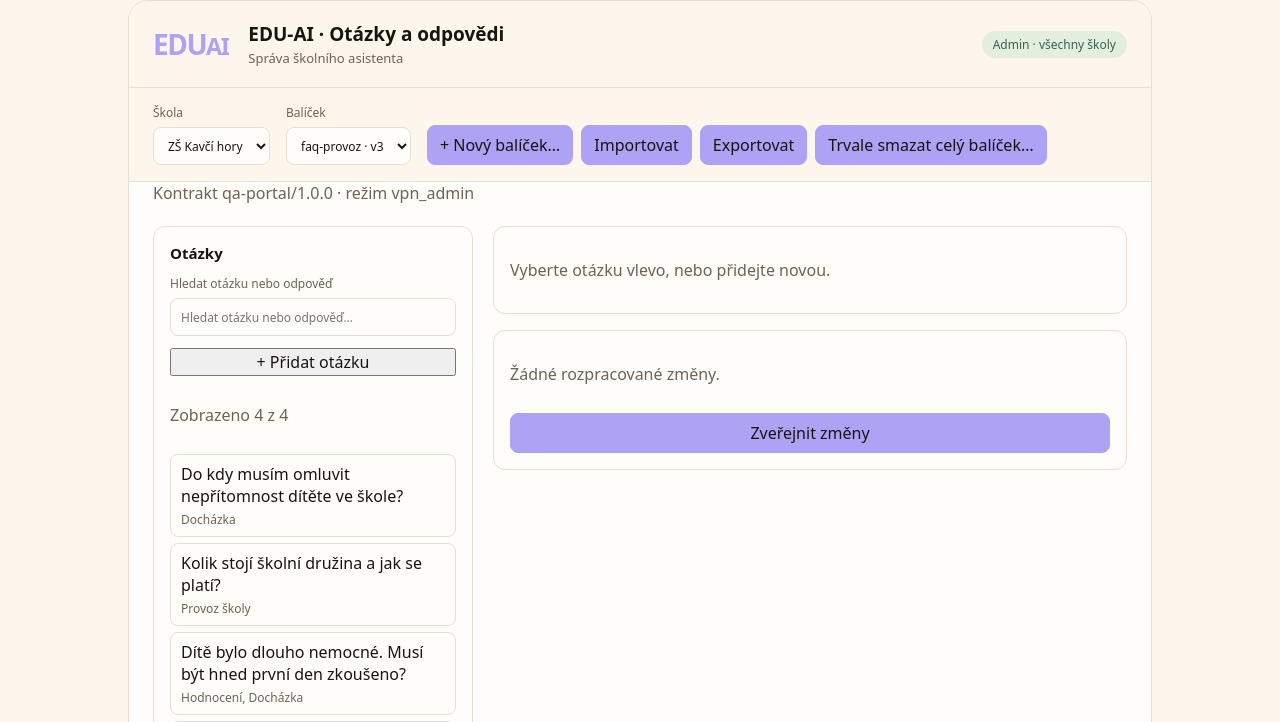
Scenario: school and pack selection with the entry list › does not mix entries when switching schools
The width and height of the screenshot is (1280, 722).
Expected: the text "Do kdy musím omluvit nepřítomnost dítěte ve škole?" is shown, [181,463,403,507]
Select "ZŠ Jedovnice" in the dropdown labelled "Škola" at (212,146), box [153,127,270,165]
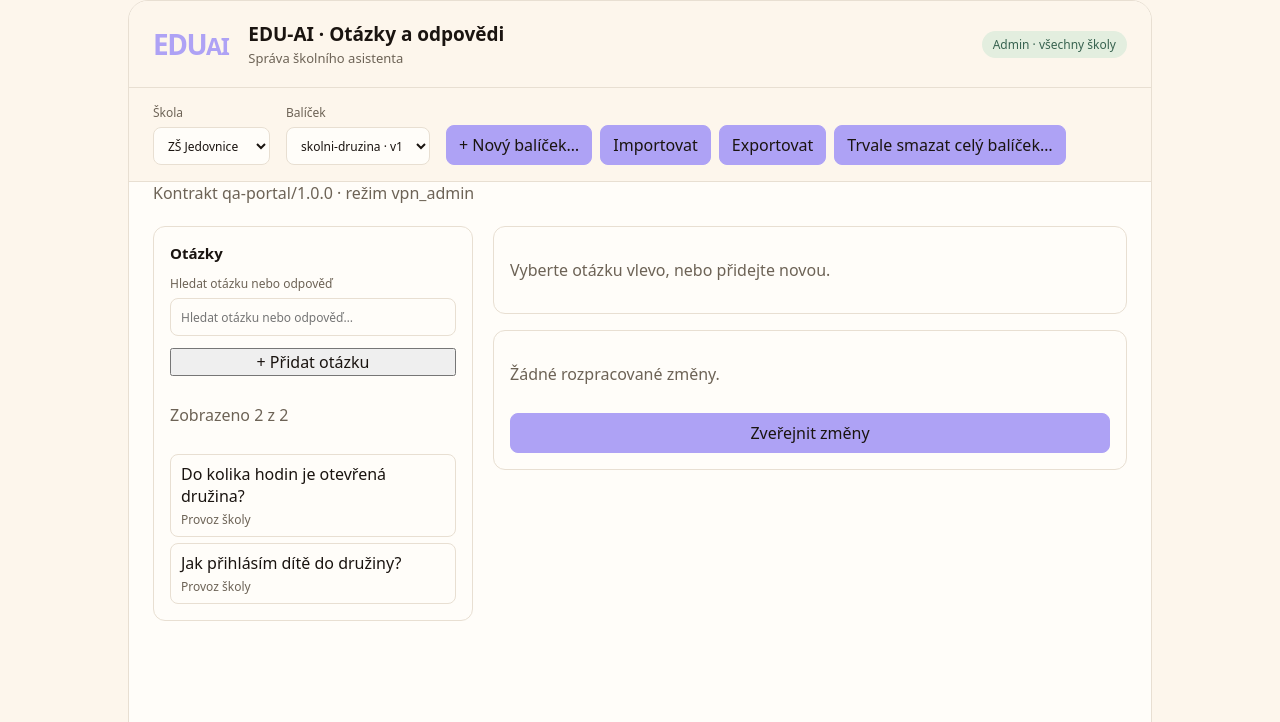
Expected: the text "Do kolika hodin je otevřená družina?" is shown, [181,463,386,507]
Expected: the button "Do kdy musím omluvit nepřítomnost dítěte ve škole?" is gone
